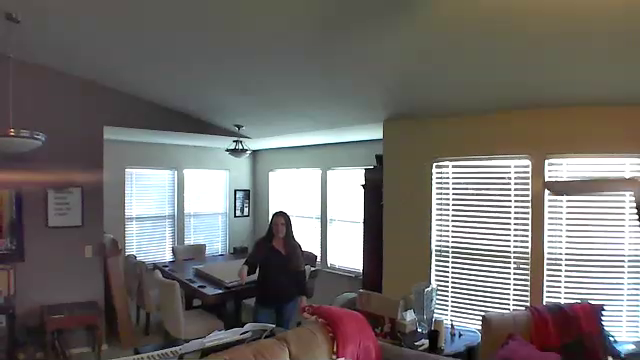down: (236, 263, 253, 288)
